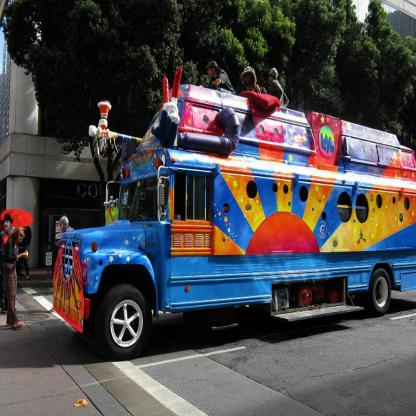Truck: (53, 66, 415, 362)
